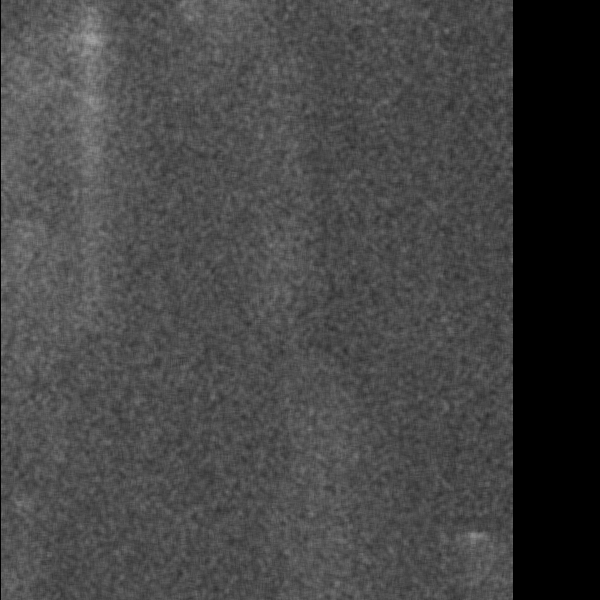spark: (457, 522, 501, 573), (14, 227, 41, 247)
